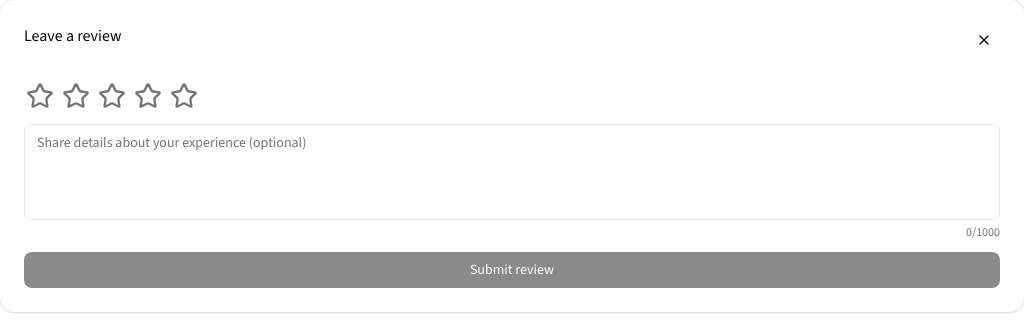
Test: ReviewCard › disables the submit button until a star is selected
Expected: the button "Submit review" is disabled, 24,252 -> 1000,288
Click the radio button named "4 stars": (148, 96) 132,80 -> 164,112
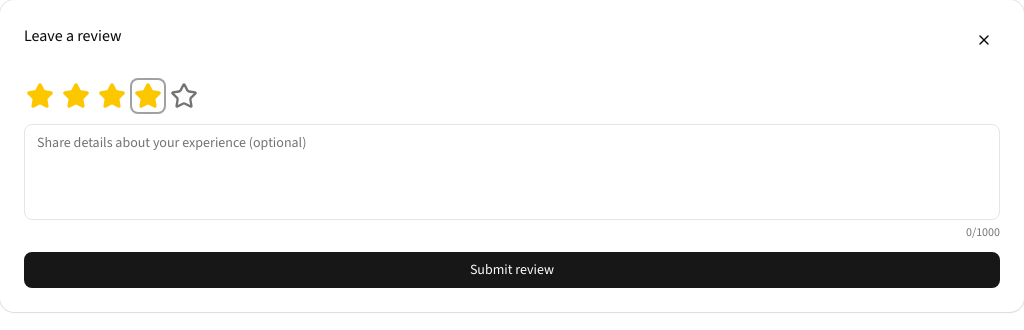
Expected: the button "Submit review" is enabled, 24,252 -> 1000,288
